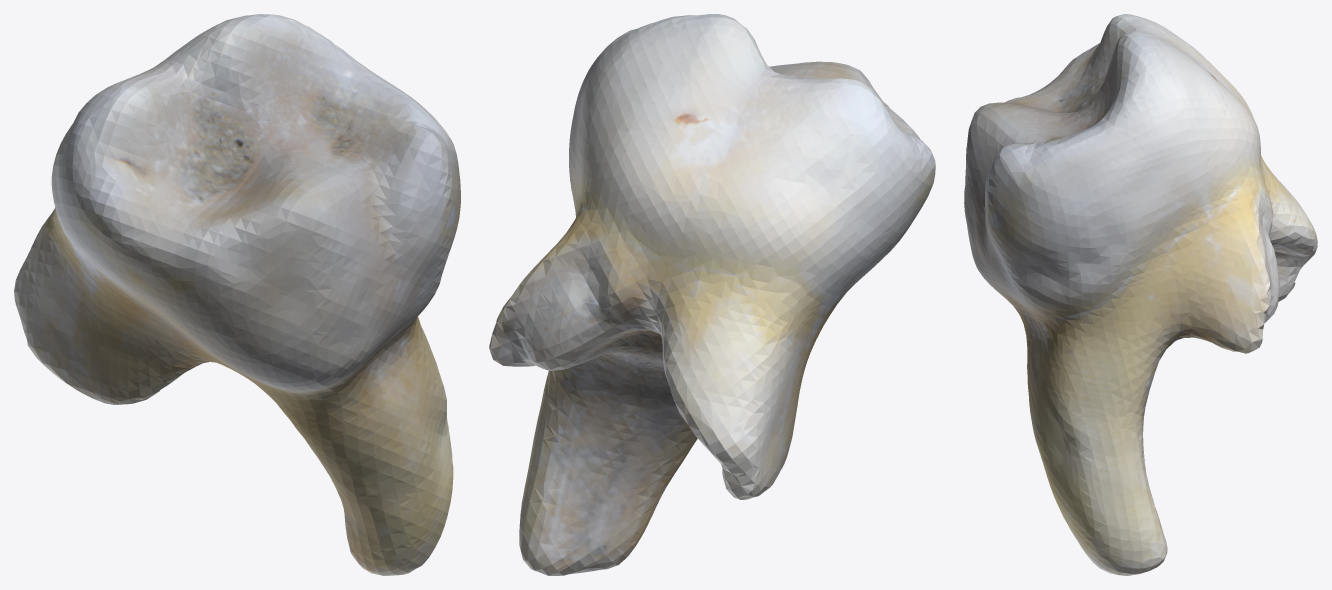
File: tooth.fbx
3 views of the same model, side by side, from view 1: azimuth 30°, elevation 25°; view 2: azimuth 150°, elevation 25°; view 3: azimuth 270°, elevation 25° (orthographic). The views are drawn at different scales.
Visible parts, largest first — view 1: Tooth_noTexture; view 2: Tooth_noTexture; view 3: Tooth_noTexture.
Boxes of the visible parts, left/top/right/bottom form: Tooth_noTexture: left=14, top=14, right=460, bottom=575; Tooth_noTexture: left=489, top=14, right=935, bottom=575; Tooth_noTexture: left=964, top=14, right=1317, bottom=575.
Size of the model in its own units: 166 by 247 by 167.
1 material, 1 textured.
